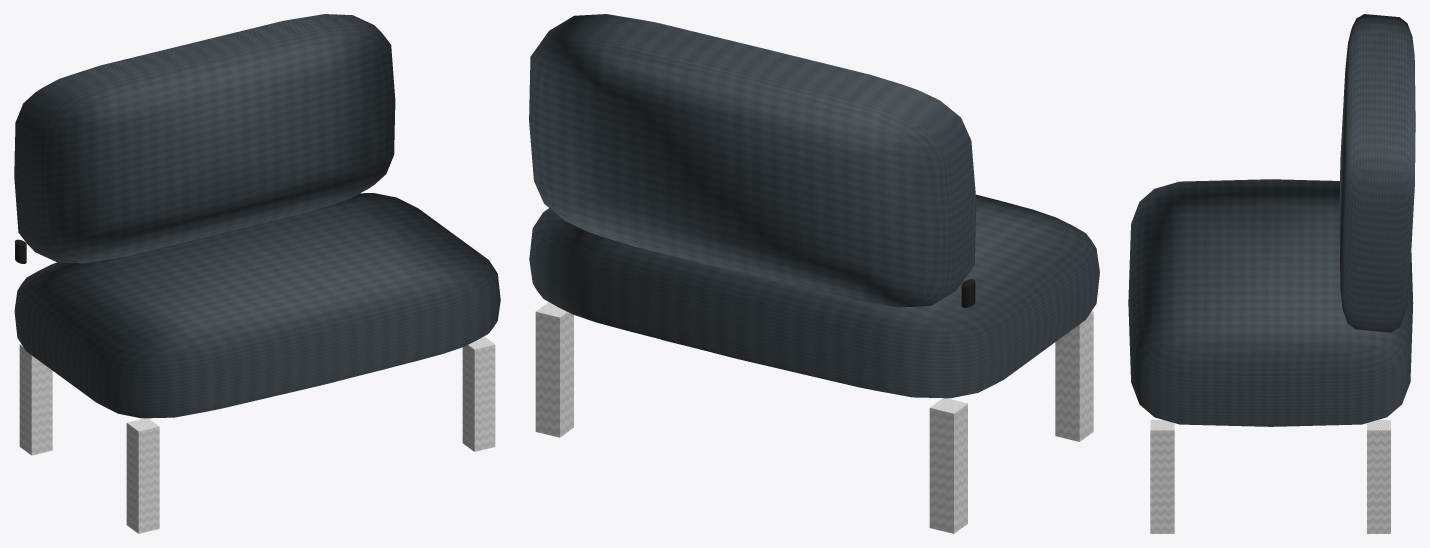
The picture shows the model from 3 angles, left to right: view 1: azimuth 30°, elevation 25°; view 2: azimuth 150°, elevation 25°; view 3: azimuth 270°, elevation 25°; orthographic projection. The views are drawn at different scales.
Visible parts, largest first — view 1: 1 seat, 2 backrest, 3 front_left_leg, 4 front_right_leg, 5 back_left_leg; view 2: 2 backrest, 1 seat, 5 back_left_leg, 6 back_right_leg, 3 front_left_leg; view 3: 1 seat, 2 backrest, 4 front_right_leg, 6 back_right_leg.
Part boxes in pixels (box(x1,y1,x2,y2)): 1 seat: box(14, 193, 500, 418); 2 backrest: box(14, 14, 395, 263); 3 front_left_leg: box(126, 418, 159, 533); 4 front_right_leg: box(462, 336, 495, 451); 5 back_left_leg: box(19, 344, 52, 455); 2 backrest: box(529, 14, 976, 307); 1 seat: box(529, 194, 1099, 398); 5 back_left_leg: box(929, 398, 967, 533); 6 back_right_leg: box(535, 302, 573, 437); 3 front_left_leg: box(1055, 311, 1093, 441); 1 seat: box(1128, 179, 1413, 426); 2 backrest: box(1339, 14, 1415, 332); 4 front_right_leg: box(1150, 420, 1174, 533); 6 back_right_leg: box(1367, 420, 1390, 533).
Size of the model in its own units: 1.16 by 1 by 0.716.
3 materials, 2 textured.
